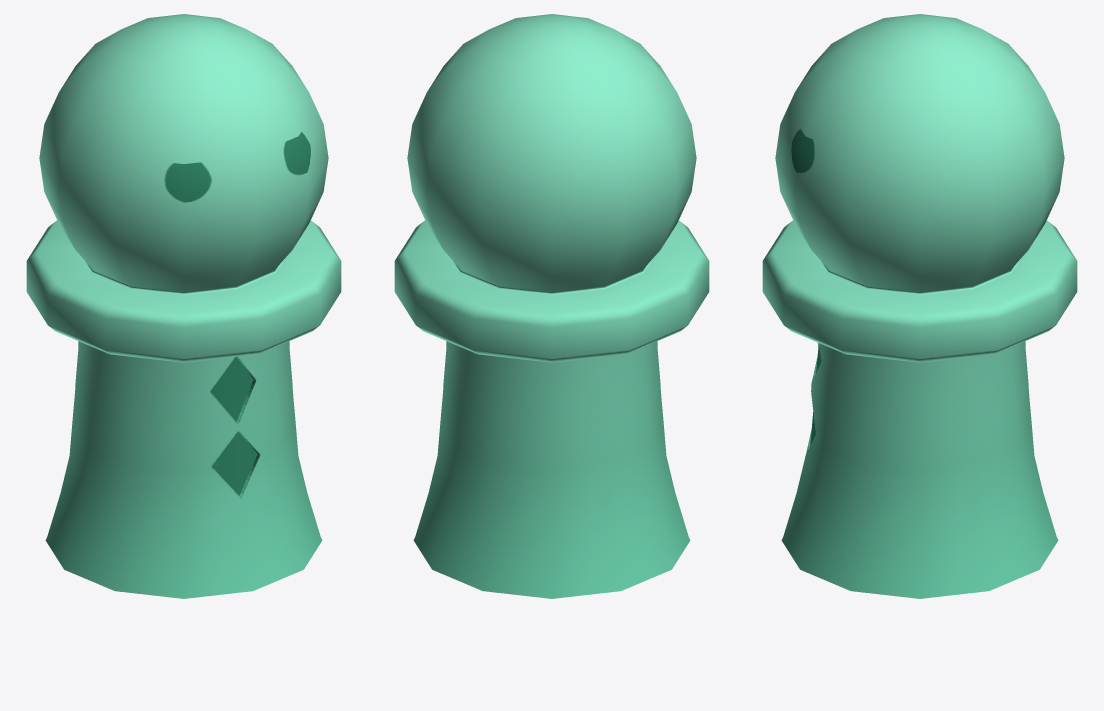
3 views of the same model, side by side, from view 1: azimuth 30°, elevation 25°; view 2: azimuth 150°, elevation 25°; view 3: azimuth 270°, elevation 25° (orthographic).
Parts seen in each view (by area): view 1: Pawn; view 2: Pawn; view 3: Pawn.
Part boxes in pixels (x1,y1,x2,y2): Pawn: [26, 14, 341, 598]; Pawn: [394, 14, 709, 598]; Pawn: [762, 14, 1077, 598].
Size of the model in its own units: 82.22 by 160 by 82.22.
Materials: 2 (2 with a texture image).
